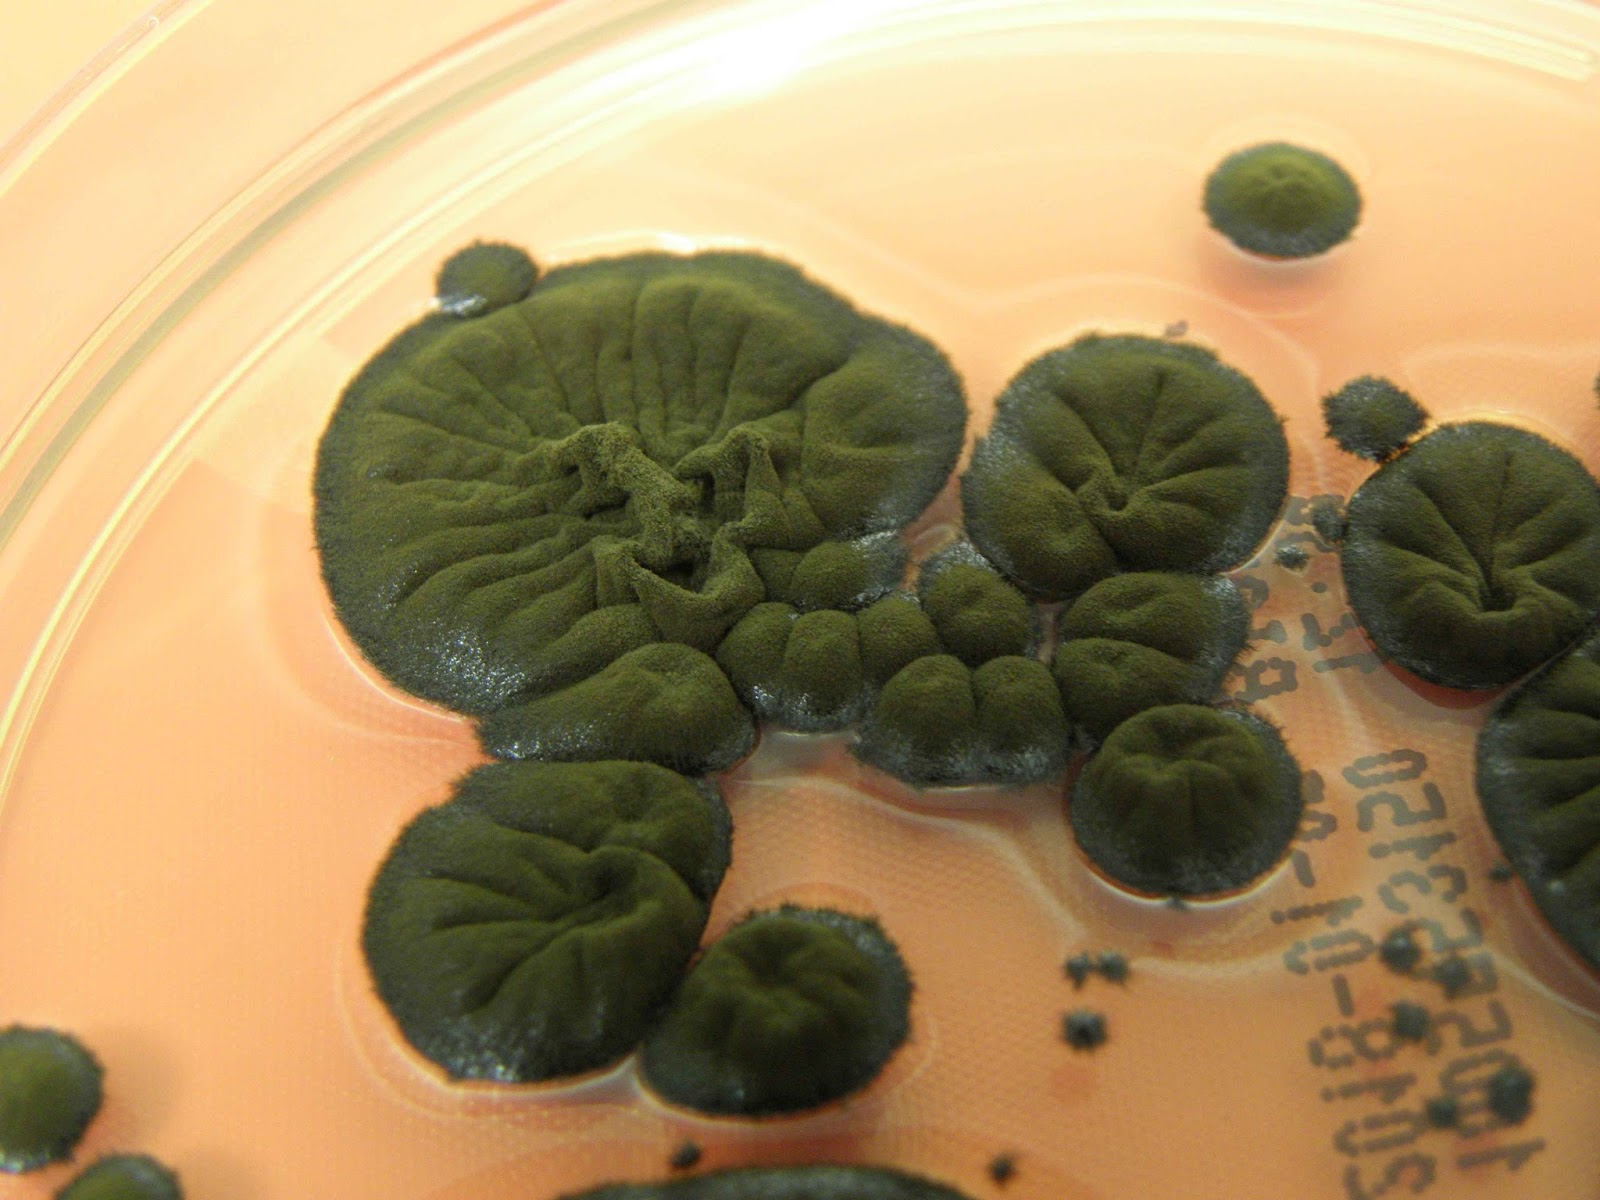Cladosporium: (351, 279, 884, 724), (375, 771, 706, 1083), (1044, 342, 1274, 689), (1352, 518, 1590, 703), (894, 582, 1068, 783), (1107, 697, 1277, 887), (1189, 112, 1381, 279), (1309, 359, 1432, 492)
